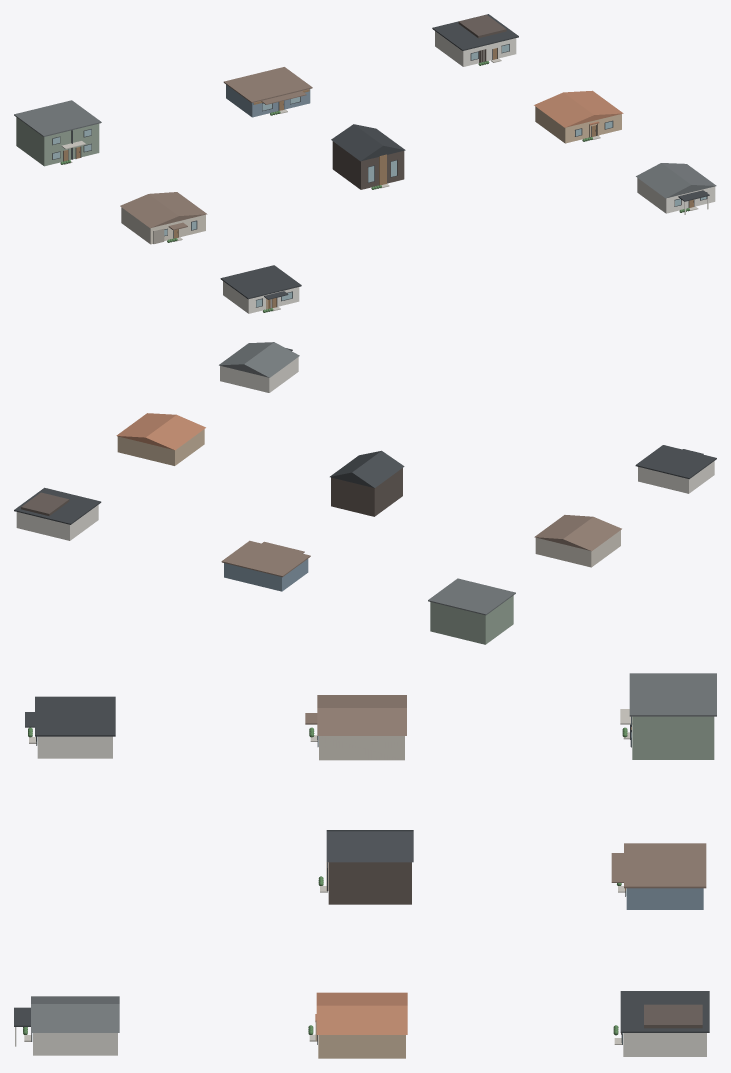
File: community-buildings.glb
The picture shows the model from 3 angles, top to bottom: view 1: azimuth 30°, elevation 25°; view 2: azimuth 150°, elevation 25°; view 3: azimuth 270°, elevation 25°; orthographic projection. The views are drawn at different scales.
Parts seen in each view (by area): view 1: COMMUNITY_L3_H5_MainShell_ContemporaryDuplex, COMMUNITY_L3_H4_GableRoof, COMMUNITY_L3_H2_GableRoof, COMMUNITY_L3_H5_FlatRoof, COMMUNITY_L3_H6_FlatRoof, COMMUNITY_L3_H1_GableRoof, COMMUNITY_L3_H3_MainShell_Scandinavian, COMMUNITY_L3_H3_GableRoof, COMMUNITY_L3_H0_FlatRoof, COMMUNITY_L3_H4_MainShell_Mediterranean, COMMUNITY_L3_H7_Roof, COMMUNITY_L3_H7_MainShell_ModernCourtyard (+5 smaller); view 2: COMMUNITY_L3_H5_MainShell_ContemporaryDuplex, COMMUNITY_L3_H3_MainShell_Scandinavian, COMMUNITY_L3_H4_GableRoof, COMMUNITY_L3_H2_GableRoof, COMMUNITY_L3_H5_FlatRoof, COMMUNITY_L3_H6_FlatRoof, COMMUNITY_L3_H1_GableRoof, COMMUNITY_L3_H3_GableRoof, COMMUNITY_L3_H0_FlatRoof, COMMUNITY_L3_H2_MainShell_ModernCraftsman, COMMUNITY_L3_H4_MainShell_Mediterranean, COMMUNITY_L3_H7_MainShell_ModernCourtyard (+5 smaller); view 3: COMMUNITY_L3_H4_GableRoof, COMMUNITY_L3_H5_FlatRoof, COMMUNITY_L3_H6_FlatRoof, COMMUNITY_L3_H2_GableRoof, COMMUNITY_L3_H5_MainShell_ContemporaryDuplex, COMMUNITY_L3_H3_MainShell_Scandinavian, COMMUNITY_L3_H0_FlatRoof, COMMUNITY_L3_H1_GableRoof, COMMUNITY_L3_H3_GableRoof, COMMUNITY_L3_H7_Roof, COMMUNITY_L3_H2_MainShell_ModernCraftsman, COMMUNITY_L3_H4_MainShell_Mediterranean (+5 smaller).
Part boxes in pixels (x1,y1,x2,y2): COMMUNITY_L3_H5_MainShell_ContemporaryDuplex: (16, 117, 99, 166); COMMUNITY_L3_H4_GableRoof: (534, 90, 623, 127); COMMUNITY_L3_H2_GableRoof: (120, 192, 207, 227); COMMUNITY_L3_H5_FlatRoof: (14, 100, 101, 136); COMMUNITY_L3_H6_FlatRoof: (223, 67, 312, 102); COMMUNITY_L3_H1_GableRoof: (636, 163, 716, 198); COMMUNITY_L3_H3_MainShell_Scandinavian: (332, 141, 404, 189); COMMUNITY_L3_H3_GableRoof: (331, 124, 405, 161); COMMUNITY_L3_H0_FlatRoof: (220, 265, 301, 299); COMMUNITY_L3_H4_MainShell_Mediterranean: (535, 106, 621, 143); COMMUNITY_L3_H7_Roof: (432, 14, 518, 50); COMMUNITY_L3_H7_MainShell_ModernCourtyard: (435, 31, 516, 66); COMMUNITY_L3_H5_MainShell_ContemporaryDuplex: (430, 595, 513, 644); COMMUNITY_L3_H3_MainShell_Scandinavian: (331, 468, 402, 516); COMMUNITY_L3_H4_GableRoof: (116, 413, 205, 450); COMMUNITY_L3_H2_GableRoof: (534, 515, 621, 551); COMMUNITY_L3_H5_FlatRoof: (428, 578, 515, 615); COMMUNITY_L3_H6_FlatRoof: (221, 540, 310, 577); COMMUNITY_L3_H1_GableRoof: (219, 342, 299, 377); COMMUNITY_L3_H3_GableRoof: (330, 450, 404, 487); COMMUNITY_L3_H0_FlatRoof: (635, 445, 716, 479); COMMUNITY_L3_H2_MainShell_ModernCraftsman: (535, 530, 620, 567); COMMUNITY_L3_H4_MainShell_Mediterranean: (117, 429, 204, 465); COMMUNITY_L3_H7_MainShell_ModernCourtyard: (16, 505, 98, 540); COMMUNITY_L3_H4_GableRoof: (316, 992, 407, 1034); COMMUNITY_L3_H5_FlatRoof: (629, 673, 716, 716); COMMUNITY_L3_H6_FlatRoof: (624, 843, 706, 888); COMMUNITY_L3_H2_GableRoof: (317, 695, 406, 735); COMMUNITY_L3_H5_MainShell_ContemporaryDuplex: (632, 716, 714, 759); COMMUNITY_L3_H3_MainShell_Scandinavian: (328, 862, 411, 904); COMMUNITY_L3_H0_FlatRoof: (35, 696, 115, 736); COMMUNITY_L3_H1_GableRoof: (31, 996, 119, 1032); COMMUNITY_L3_H3_GableRoof: (326, 830, 413, 862); COMMUNITY_L3_H7_Roof: (620, 991, 709, 1032); COMMUNITY_L3_H2_MainShell_ModernCraftsman: (319, 736, 404, 760); COMMUNITY_L3_H4_MainShell_Mediterranean: (318, 1035, 405, 1058).
Bounding box in the file's own units: 98.11 × 7.89 × 85.83.
